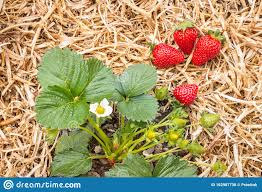Fresa: (189, 29, 223, 67), (149, 40, 187, 72), (171, 22, 199, 59), (170, 81, 200, 108)
